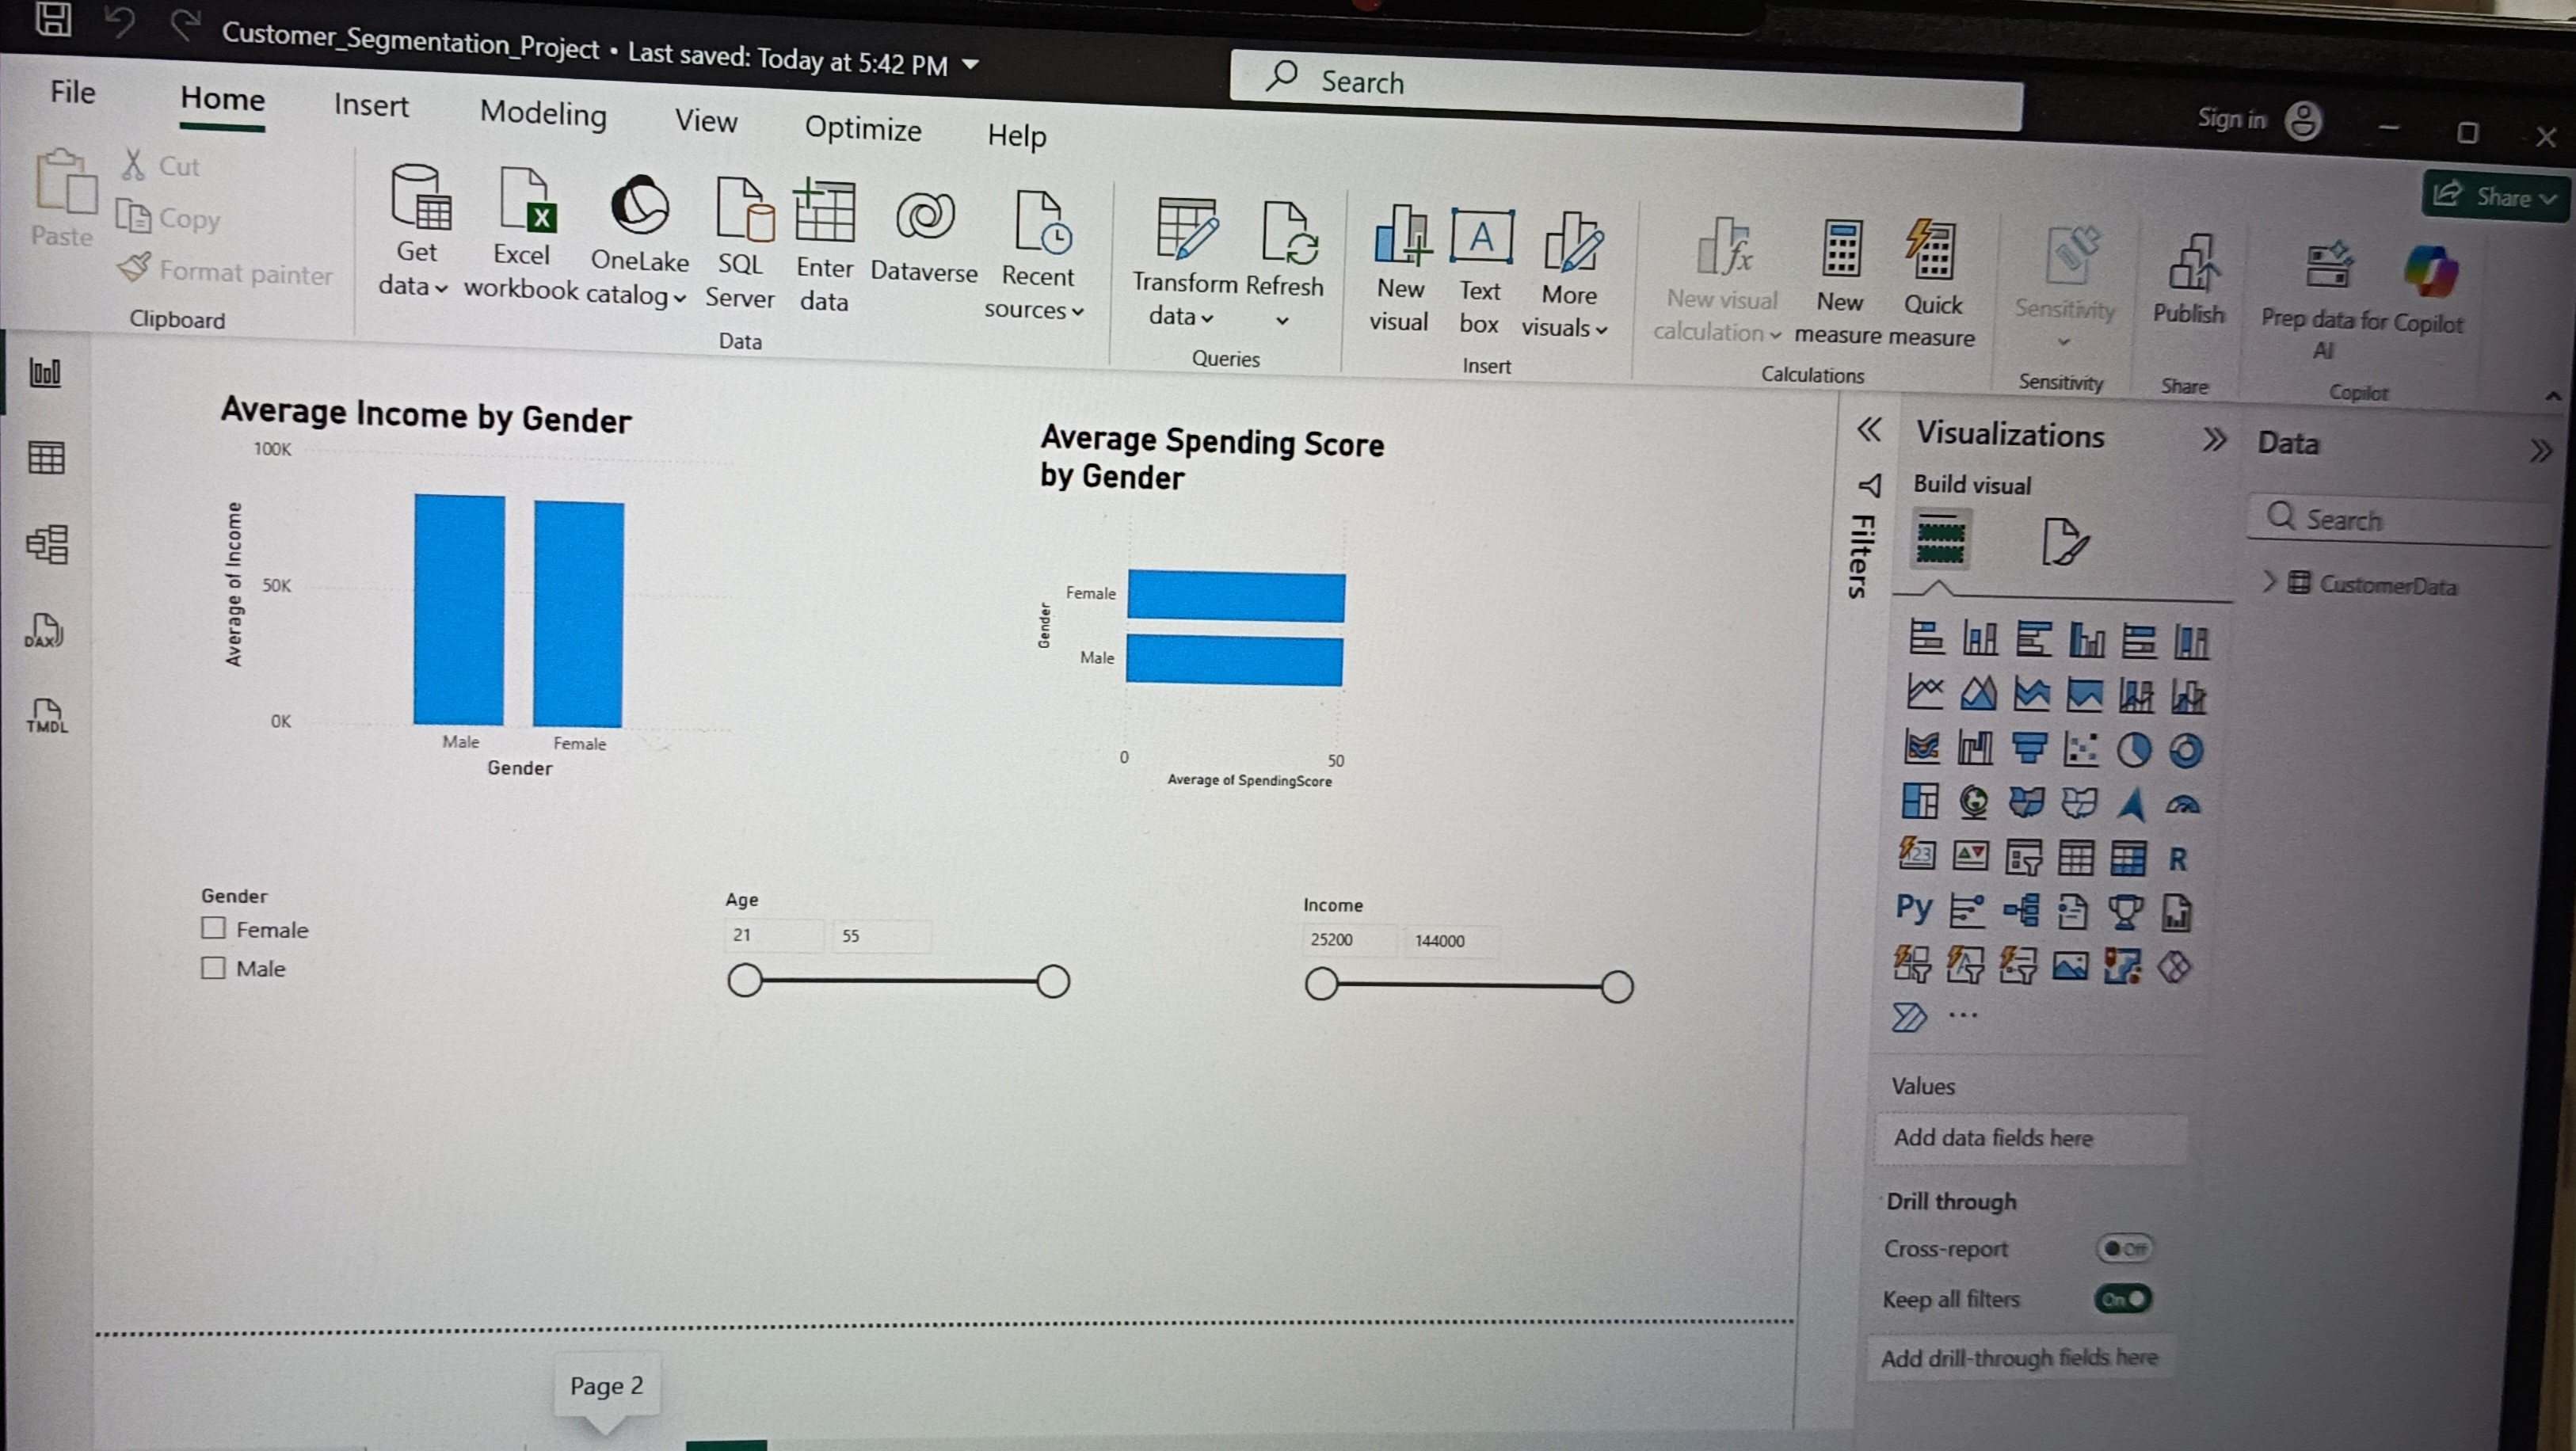

The page's visual inventory and layout, read from the dashboard file:
{"tool":"powerbi","page":{"name":"Page 2","canvas":[1280,720],"ordinal":1},"visuals":[{"type":"columnChart","title":"Average Income by Gender","fields":{"Category":["CustomerData.Gender"],"Y":["Avg(CustomerData.Income)"]},"box":[83.2,35.9,370.4,279.7],"z":0},{"type":"barChart","title":"Average Spending Score by Gender","fields":{"Y":["Avg(CustomerData.SpendingScore)"],"Category":["CustomerData.Gender"]},"box":[667.1,35.9,279.7,279.7],"z":1000},{"type":"slicer","fields":{"Values":["CustomerData.Gender"]},"box":[62.4,385.5,279.7,279.7],"z":2000},{"type":"slicer","fields":{"Values":["CustomerData.Age"]},"box":[432.8,385.5,279.7,279.7],"z":3000},{"type":"slicer","fields":{"Values":["CustomerData.Income"]},"box":[869.3,385.5,279.7,279.7],"z":4000}]}

Visuals, with their boxes on the page's 1280x720 design canvas (x1, y1, x2, y2). These are canvas units, not pixel positions in the 2576x1451 screenshot, which may show the page scaled, cropped or inside an application window:
"Average Income by Gender" columnChart: bbox=[83, 36, 454, 316]
"Average Spending Score by Gender" barChart: bbox=[667, 36, 947, 316]
slicer - CustomerData.Gender: bbox=[62, 386, 342, 665]
slicer - CustomerData.Age: bbox=[433, 386, 712, 665]
slicer - CustomerData.Income: bbox=[869, 386, 1149, 665]
